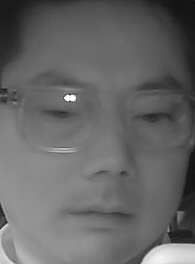eye: (133, 109, 171, 131), (39, 106, 75, 126)
glass: (19, 85, 99, 150), (119, 86, 190, 149)
mouth: (59, 193, 134, 239)
